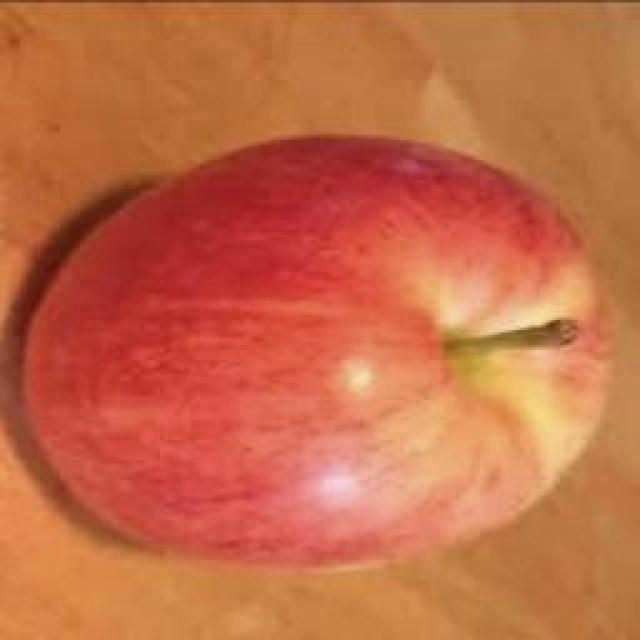Apple: (14, 138, 608, 564)
